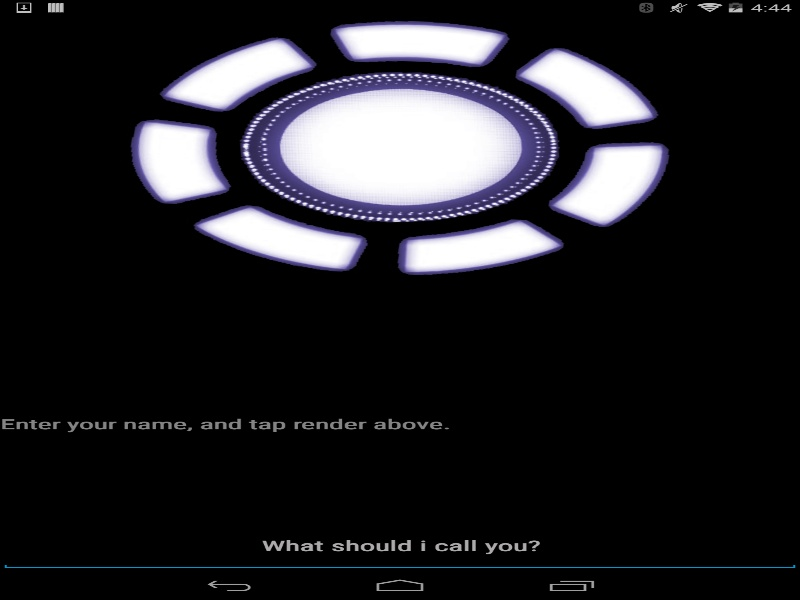Input: (0, 376, 800, 502), (0, 521, 800, 570), (0, 534, 731, 570)
